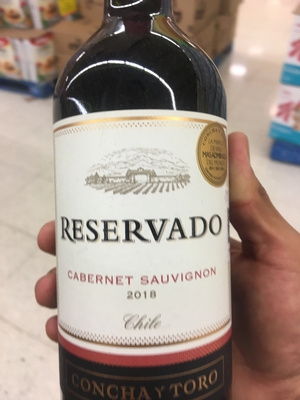reservado cabernet sauvignon: (47, 3, 237, 400)
